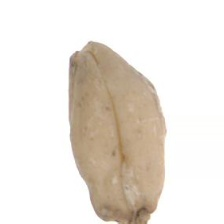L1: (93, 204, 157, 222), (69, 39, 100, 64)
L2: (68, 39, 167, 223)
